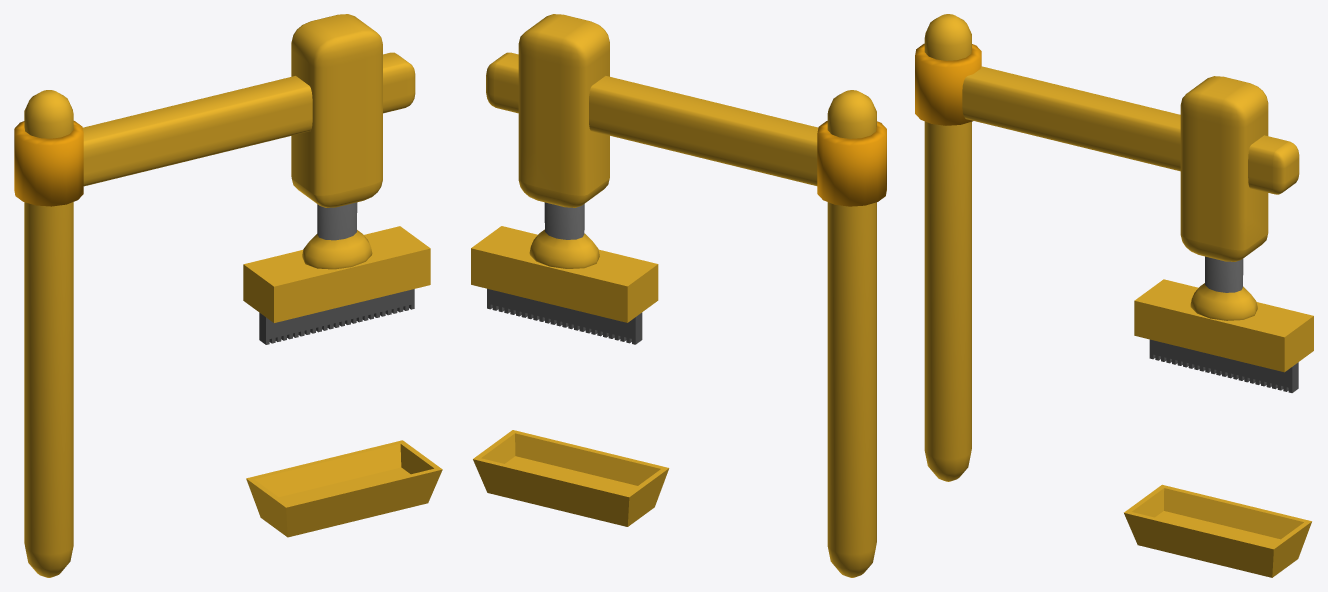
Rendered from NutBreaker1.fbx.
3 renders of one model, left to right at view 1: azimuth 30°, elevation 25°; view 2: azimuth 150°, elevation 25°; view 3: azimuth 330°, elevation 25°, orthographic. The views are drawn at different scales.
Visible parts, largest first — view 1: Nut_breaker, Nut_breaker_End, Nut_breaker.001, Nut_breaker.003, Nut_breaker.004; view 2: Nut_breaker, Nut_breaker_End, Nut_breaker.001, Nut_breaker.003, Nut_breaker.004; view 3: Nut_breaker, Nut_breaker_End, Nut_breaker.003, Nut_breaker.001, Nut_breaker.004.
Boxes of the visible parts, x1=… form: Nut_breaker: x1=24, y1=90, x2=442, y2=577; Nut_breaker_End: x1=243, y1=202, x2=430, y2=344; Nut_breaker.001: x1=291, y1=14, x2=382, y2=207; Nut_breaker.003: x1=83, y1=52, x2=415, y2=186; Nut_breaker.004: x1=14, y1=121, x2=83, y2=206; Nut_breaker: x1=473, y1=90, x2=876, y2=577; Nut_breaker_End: x1=471, y1=202, x2=658, y2=344; Nut_breaker.001: x1=518, y1=14, x2=609, y2=207; Nut_breaker.003: x1=486, y1=52, x2=818, y2=185; Nut_breaker.004: x1=817, y1=121, x2=886, y2=206; Nut_breaker: x1=924, y1=14, x2=1311, y2=577; Nut_breaker_End: x1=1134, y1=256, x2=1313, y2=392; Nut_breaker.003: x1=962, y1=66, x2=1299, y2=194; Nut_breaker.001: x1=1180, y1=76, x2=1268, y2=261; Nut_breaker.004: x1=915, y1=43, x2=981, y2=125.
Size of the model in its own units: 45.37 by 52.82 by 8.87.
